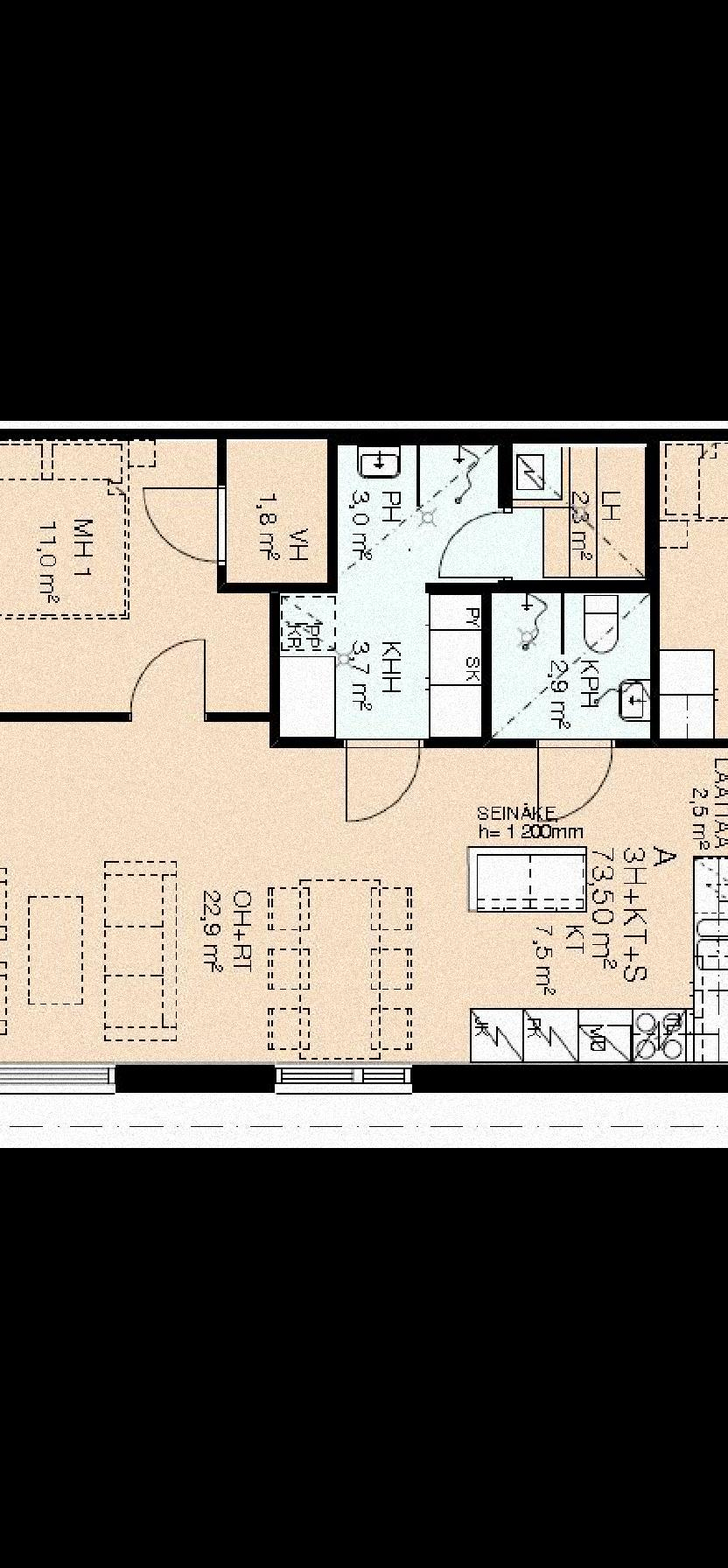door: (140, 475, 236, 568), (536, 732, 620, 823), (136, 627, 214, 722), (338, 738, 419, 823), (435, 505, 511, 584)
window: (276, 1062, 419, 1096), (0, 1063, 115, 1095)
zone: (0, 751, 728, 1070), (275, 443, 638, 733), (0, 448, 280, 747), (655, 448, 728, 743), (497, 593, 641, 736), (226, 444, 317, 581)
